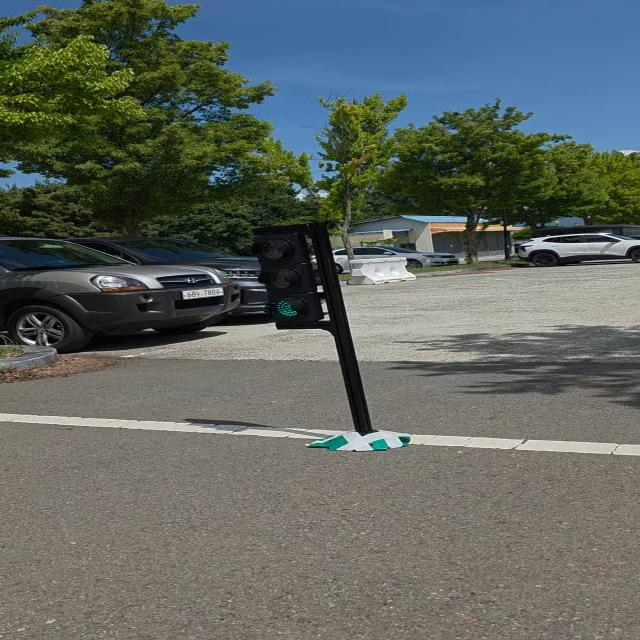green: (252, 224, 326, 328)
